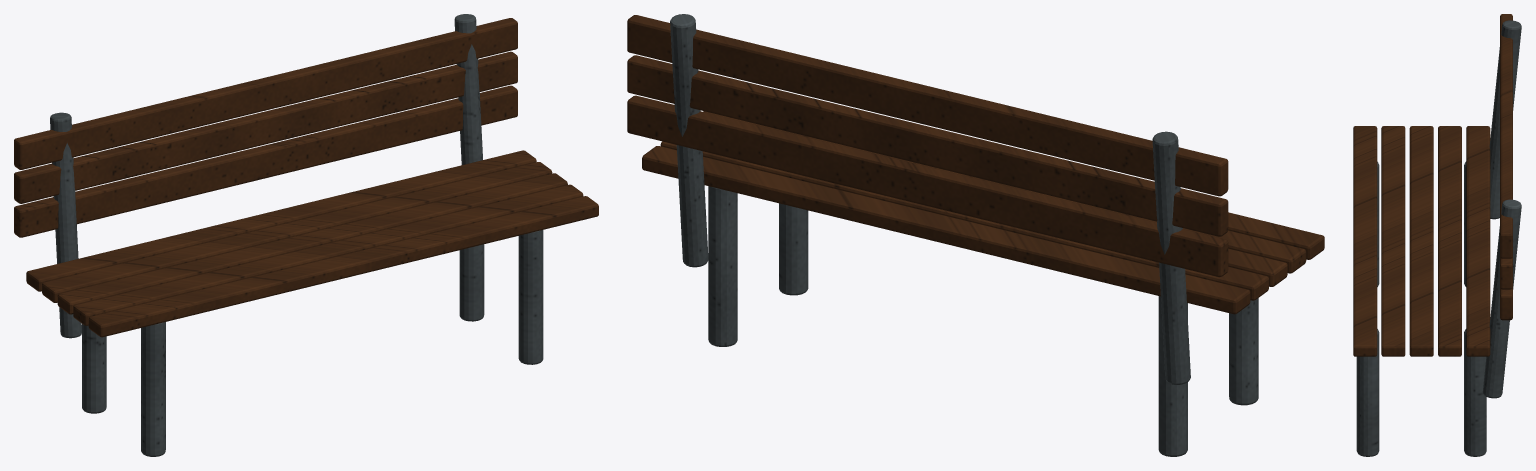
Rendered from PROP-CFD19FE0CA6D_lod0.glb.
3 renders of one model, left to right at view 1: azimuth 30°, elevation 25°; view 2: azimuth 150°, elevation 25°; view 3: azimuth 270°, elevation 25°, orthographic. The views are drawn at different scales.
Parts seen in each view (by area): view 1: back_slats.002, seat_slats.002, bench_legs.002, back_support.002; view 2: back_slats.002, seat_slats.002, bench_legs.002, back_support.002; view 3: seat_slats.002, bench_legs.002, back_support.002, back_slats.002.
Part boxes in pixels (<box>): back_slats.002: <box>14,18,517,237</box>; seat_slats.002: <box>26,150,598,337</box>; bench_legs.002: <box>82,230,543,456</box>; back_support.002: <box>50,14,482,338</box>; back_slats.002: <box>627,15,1228,277</box>; seat_slats.002: <box>642,111,1324,314</box>; bench_legs.002: <box>708,186,1258,456</box>; back_support.002: <box>670,14,1190,384</box>; seat_slats.002: <box>1353,126,1490,356</box>; bench_legs.002: <box>1356,161,1486,456</box>; back_support.002: <box>1482,20,1521,398</box>; back_slats.002: <box>1500,14,1512,320</box>.
Bounding box in the file's own units: 1.85 × 1 × 0.5966.
Materials: 2 (2 with a texture image).
